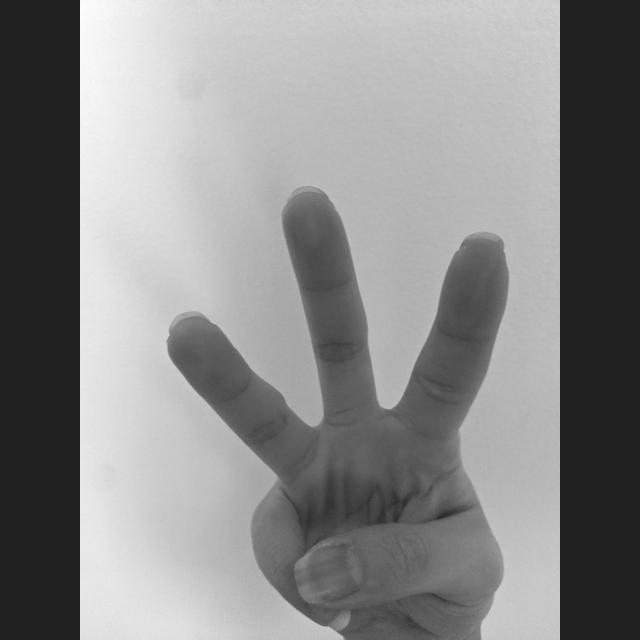W: (161, 177, 515, 639)
